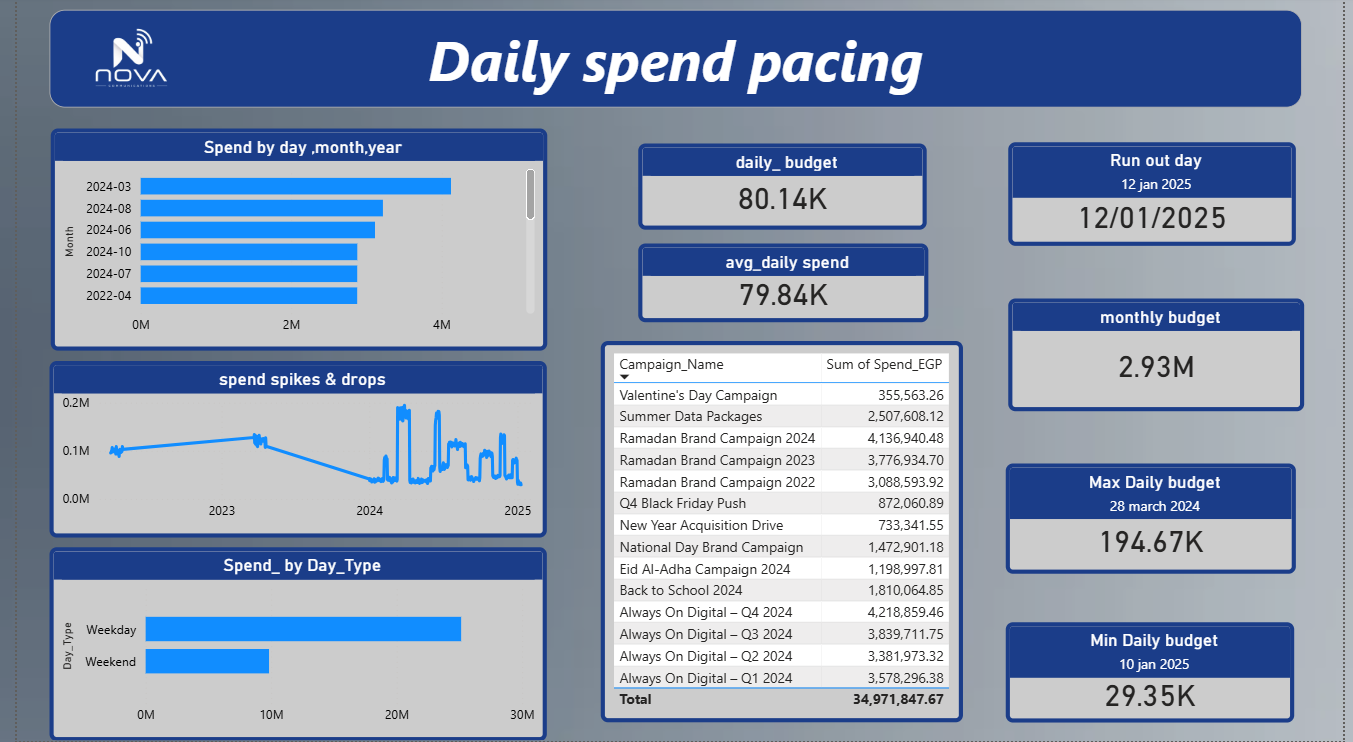

The dashboard page shown, as its layout file describes it:
{"tool":"powerbi","page":{"name":"Daily spend pacing","canvas":[1280,720],"ordinal":2},"visuals":[{"type":"textbox","title":"Pudget Overview","box":[30.9,13.4,1209,94.1],"z":0},{"type":"image","box":[30.6,15.3,161.4,91.8],"z":2000},{"type":"clusteredBarChart","title":"Spend  by day ,month,year","fields":{"Y":["Sum(Daily_Channel_Performance.Spend_EGP)"],"Category":["__Daily_Channel_Performance.Month"]},"box":[32.6,127.9,479,214.7],"z":3000},{"type":"card","title":" Min Daily budget","fields":{"Values":["Annual_Media_Spend.Min_Daily_Spend"]},"box":[954.3,604.4,278.7,96.5],"z":5000},{"type":"card","title":"Max Daily budget","fields":{"Values":["Annual_Media_Spend.Max_Daily_Spend"]},"box":[954.8,451,279.9,106.2],"z":6000},{"type":"card","title":"monthly budget","fields":{"Values":["_Annual_Media_Spend.monthly budget"]},"box":[956.7,292,285.9,108.6],"z":7000},{"type":"card","title":"daily_ budget","fields":{"Values":["__Daily_Channel_Performance.daily_budget"]},"box":[599.1,142.6,278.7,83.2],"z":8000},{"type":"lineChart","title":" spend spikes & drops","fields":{"Category":["__Daily_Channel_Performance.Date.Variation.Date Hierarchy.Year"],"Y":["Sum(__Daily_Channel_Performance.Spend_EGP)"]},"box":[31.4,352.3,480.2,170.1],"z":9000},{"type":"clusteredBarChart","title":"Spend_ by Day_Type","fields":{"Category":["__Daily_Channel_Performance.Day_Type"],"Y":["Sum(__Daily_Channel_Performance.Spend_EGP)"]},"box":[31.4,532,480.2,187],"z":10000},{"type":"card","title":"avg_daily spend","fields":{"Values":["Brand_Awareness_Metrics.avg_daily spend"]},"box":[599.1,239.1,279.9,76],"z":11000},{"type":"card","title":"Run out day","fields":{"Values":["Brand_Awareness_Metrics.run out date"]},"box":[957.2,140.7,277.5,100.1],"z":12000},{"type":"tableEx","fields":{"Values":["___Campaigns.Campaign_Name","Sum(__Daily_Channel_Performance.Spend_EGP)"]},"box":[563.4,333,349.9,368],"z":13000}]}

Visuals, with their boxes in screenshot pixels (x1, y1, x2, y2), scaled from the page's 1280x720 canvas onto the 1353x742 screenshot:
"Pudget Overview" textbox: {"x1": 33, "y1": 14, "x2": 1311, "y2": 111}
image: {"x1": 32, "y1": 16, "x2": 203, "y2": 110}
"Spend  by day ,month,year" clusteredBarChart: {"x1": 34, "y1": 132, "x2": 541, "y2": 353}
" Min Daily budget" card: {"x1": 1009, "y1": 623, "x2": 1303, "y2": 722}
"Max Daily budget" card: {"x1": 1009, "y1": 465, "x2": 1305, "y2": 574}
"monthly budget" card: {"x1": 1011, "y1": 301, "x2": 1313, "y2": 413}
"daily_ budget" card: {"x1": 633, "y1": 147, "x2": 928, "y2": 233}
" spend spikes & drops" lineChart: {"x1": 33, "y1": 363, "x2": 541, "y2": 538}
"Spend_ by Day_Type" clusteredBarChart: {"x1": 33, "y1": 548, "x2": 541, "y2": 741}
"avg_daily spend" card: {"x1": 633, "y1": 246, "x2": 929, "y2": 325}
"Run out day" card: {"x1": 1012, "y1": 145, "x2": 1305, "y2": 248}
tableEx - ___Campaigns.Campaign_Name x Sum(__Daily_Channel_Performance.Spend_EGP): {"x1": 596, "y1": 343, "x2": 965, "y2": 722}
